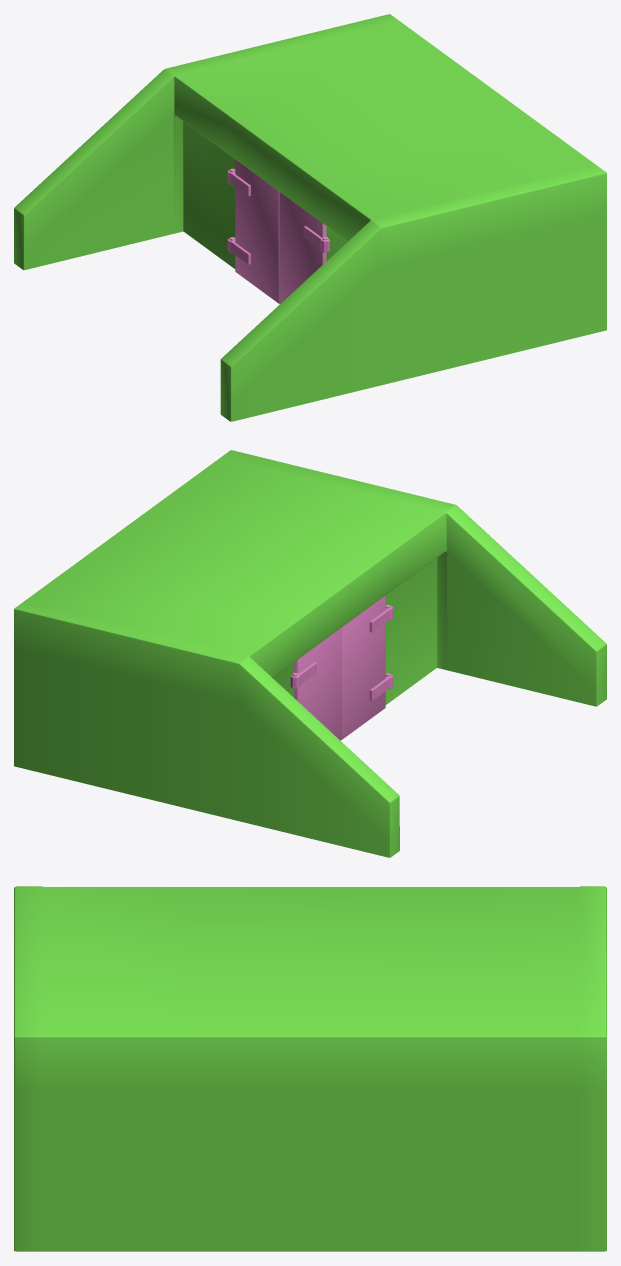
Rendered from Bunker.fbx.
The picture shows the model from 3 angles, top to bottom: view 1: azimuth 30°, elevation 25°; view 2: azimuth 150°, elevation 25°; view 3: azimuth 270°, elevation 25°; orthographic projection. The views are drawn at different scales.
Parts seen in each view (by area): view 1: Cube.027, Cube.201, Cube.204; view 2: Cube.027, Cube.204, Cube.201; view 3: Cube.027.
Boxes of the visible parts, <box> form: Cube.027: <box>14,14,606,421</box>; Cube.201: <box>227,159,279,303</box>; Cube.204: <box>279,191,329,304</box>; Cube.027: <box>14,450,606,857</box>; Cube.204: <box>341,595,392,739</box>; Cube.201: <box>290,627,341,740</box>; Cube.027: <box>14,886,606,1251</box>.
Bounding box in the file's own units: 1000 × 400 × 1000.
